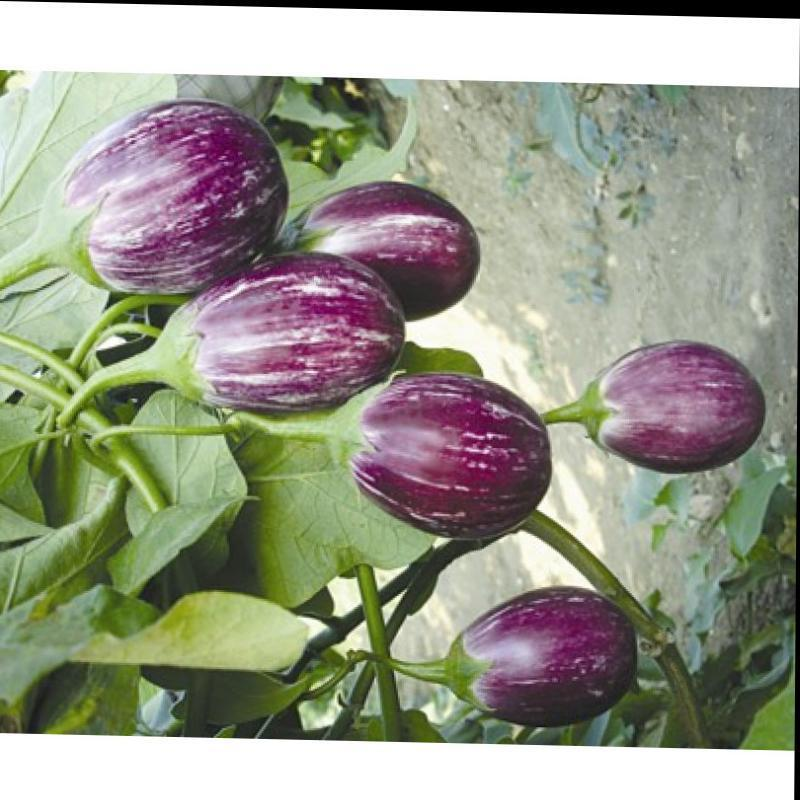eggplant: (77, 256, 419, 452), (0, 71, 279, 307), (281, 375, 592, 544), (410, 558, 650, 756), (542, 294, 774, 486), (287, 147, 499, 317)
